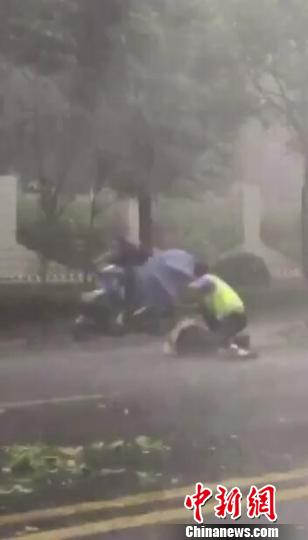fall: (160, 315, 240, 358)
